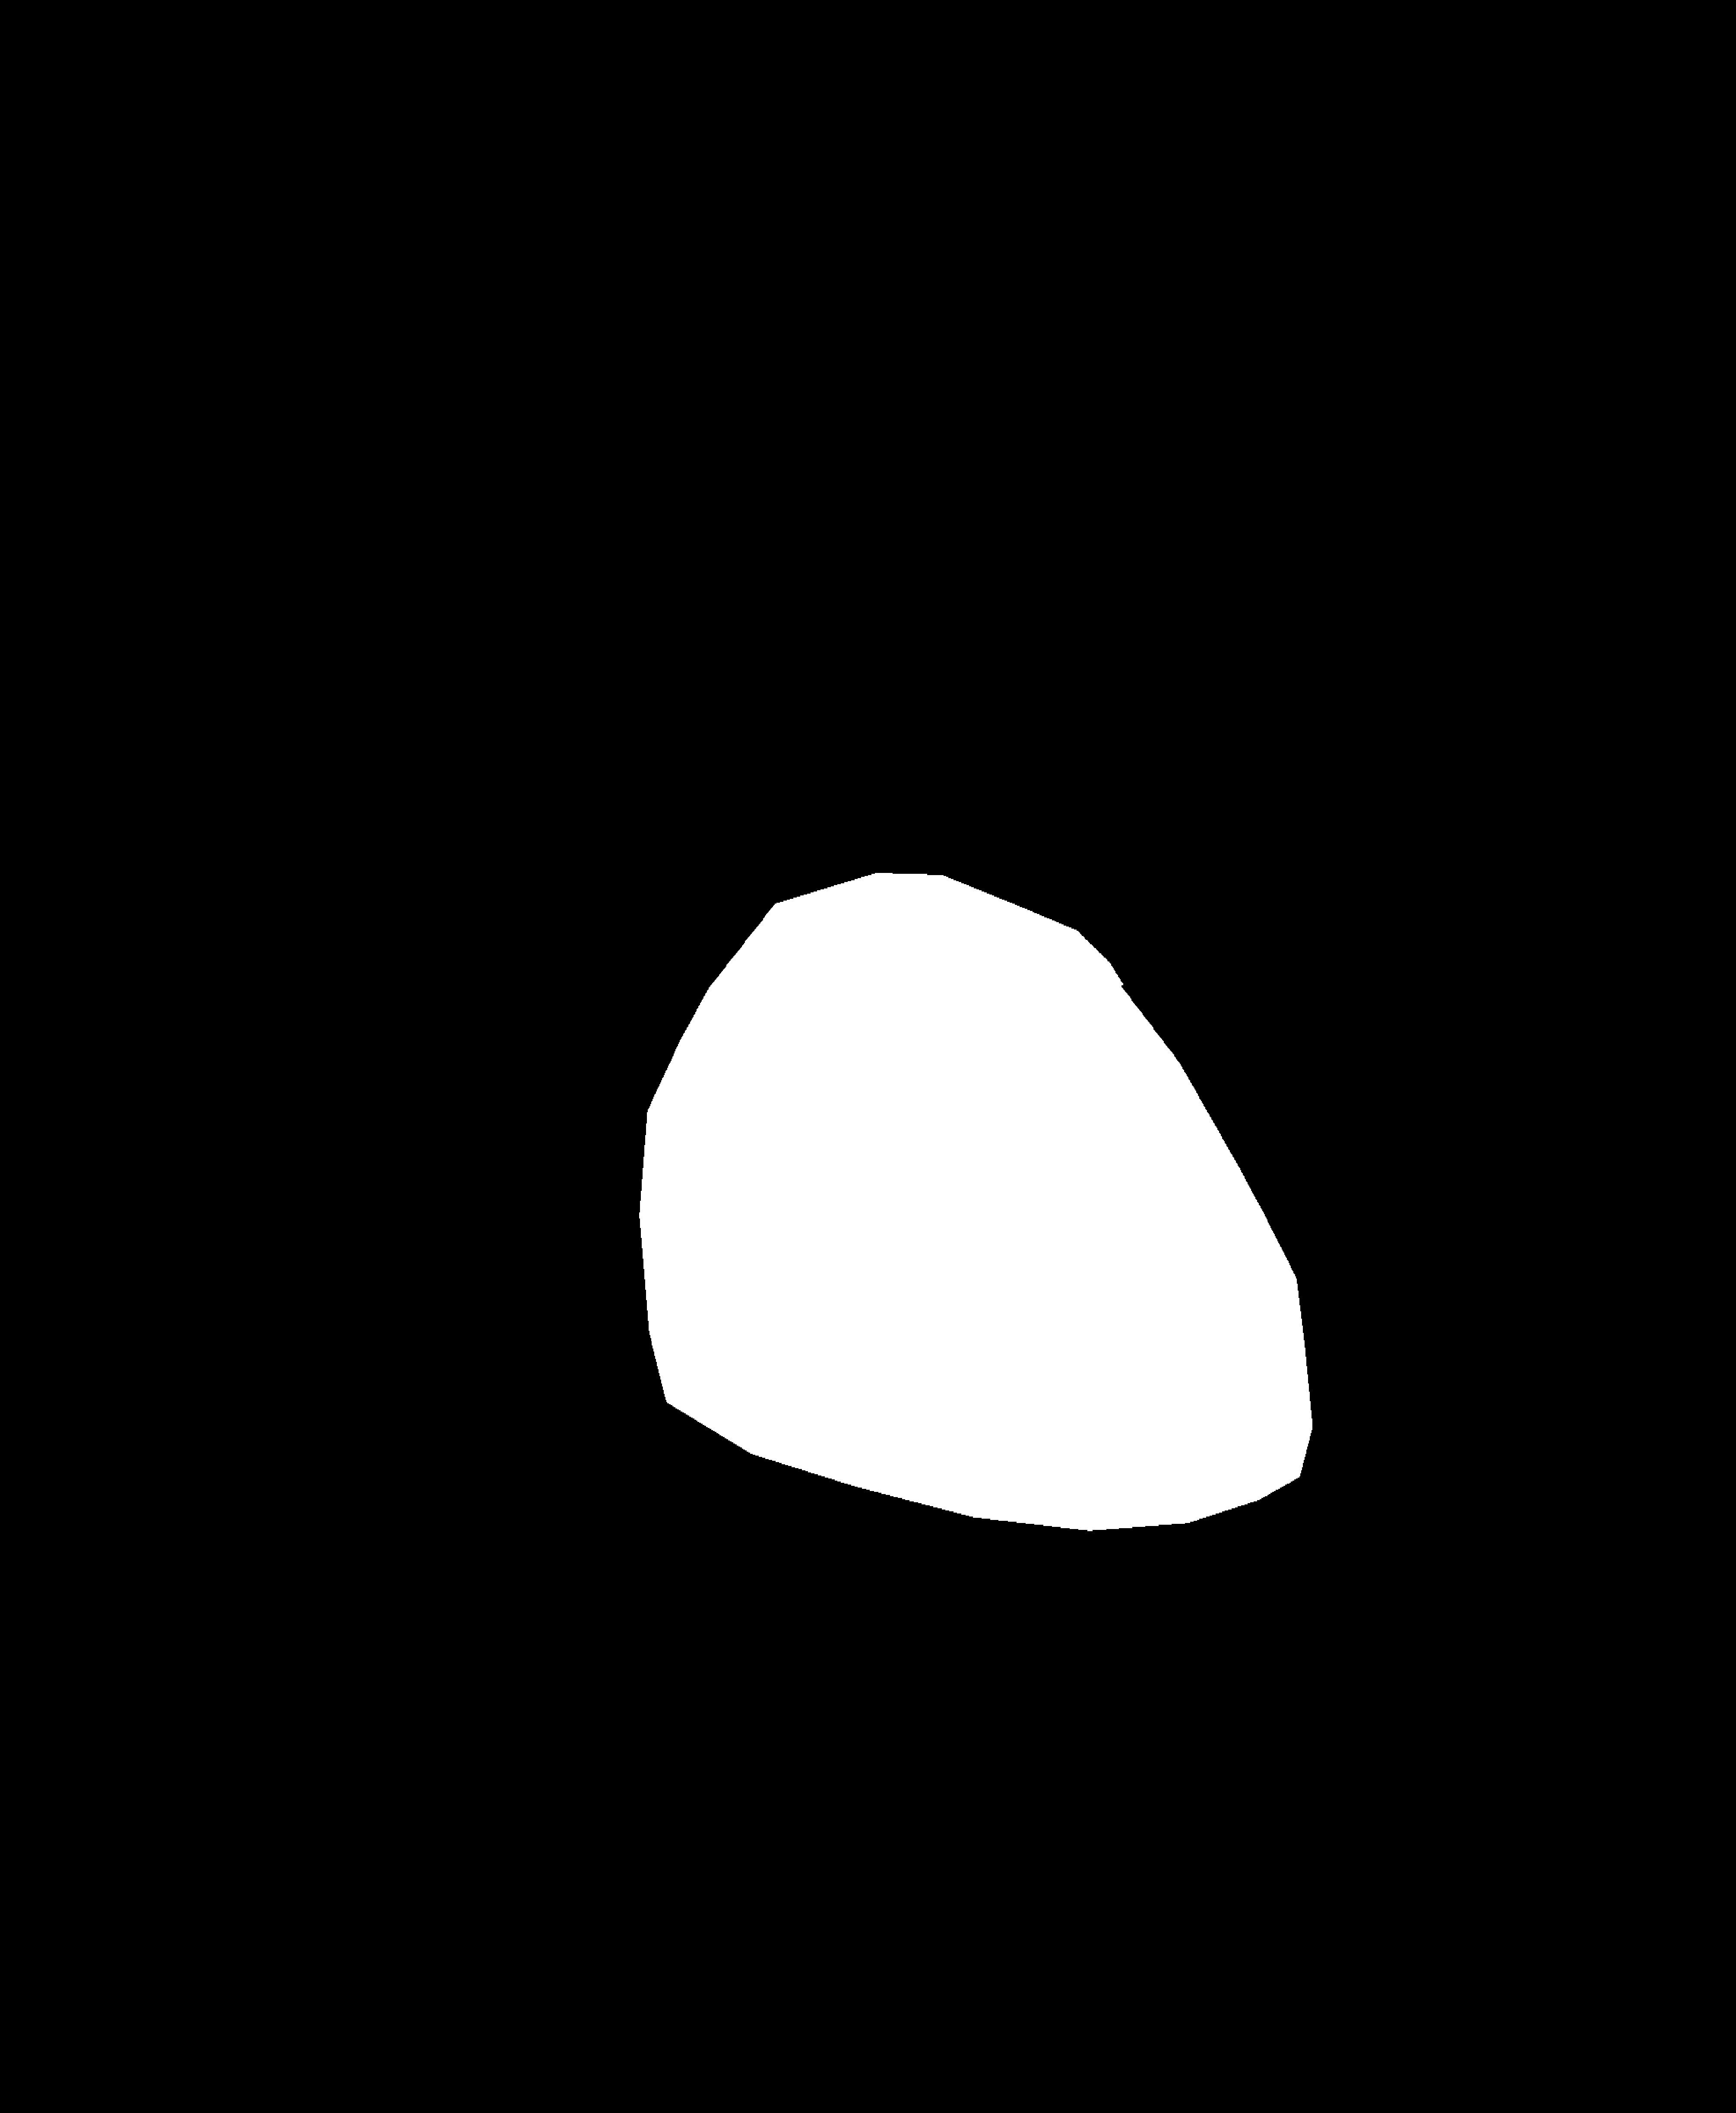heart: (630, 1034, 1309, 1590)
left_lung: (123, 228, 799, 1678)
right_lung: (948, 211, 1618, 1690)
